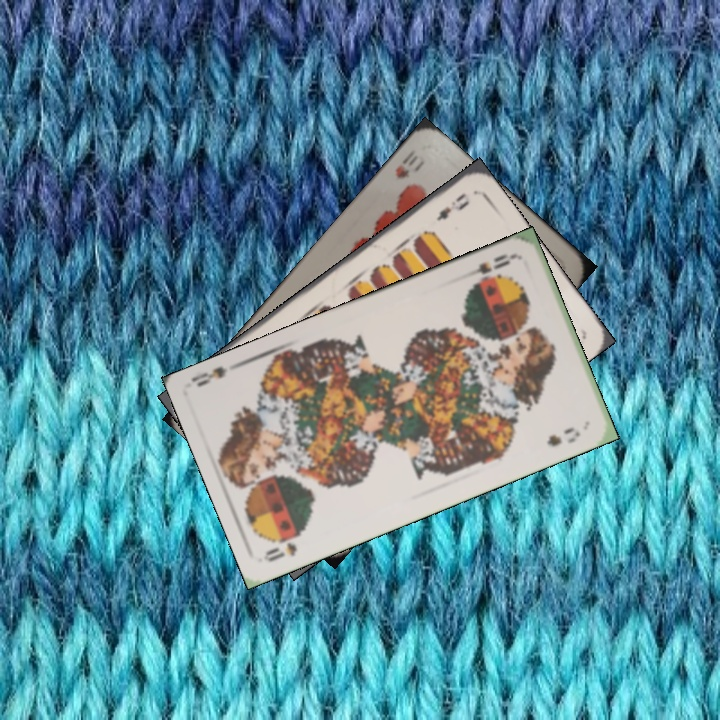E9: (432, 189, 472, 224)
H10: (391, 146, 427, 182)
SO: (460, 249, 517, 281), (261, 538, 300, 565)
